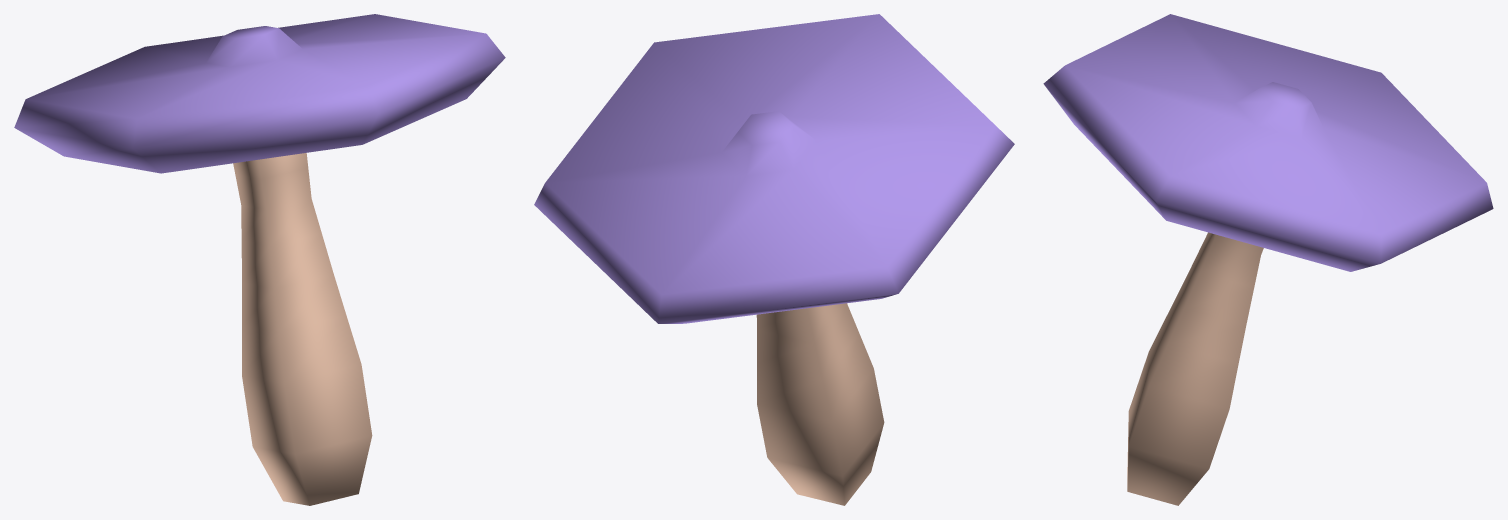
Rendered from LightCogumelo.fbx.
3 renders of one model, left to right at view 1: azimuth 30°, elevation 25°; view 2: azimuth 150°, elevation 25°; view 3: azimuth 270°, elevation 25°, orthographic. The views are drawn at different scales.
Parts seen in each view (by area): view 1: Circle.013; view 2: Circle.013; view 3: Circle.013.
Part boxes in pixels (x1,y1,x2,y2): Circle.013: (14, 14, 505, 505); Circle.013: (534, 14, 1014, 505); Circle.013: (1043, 14, 1493, 505).
Bounding box in the file's own units: 15.75 × 18.3 × 17.39.
